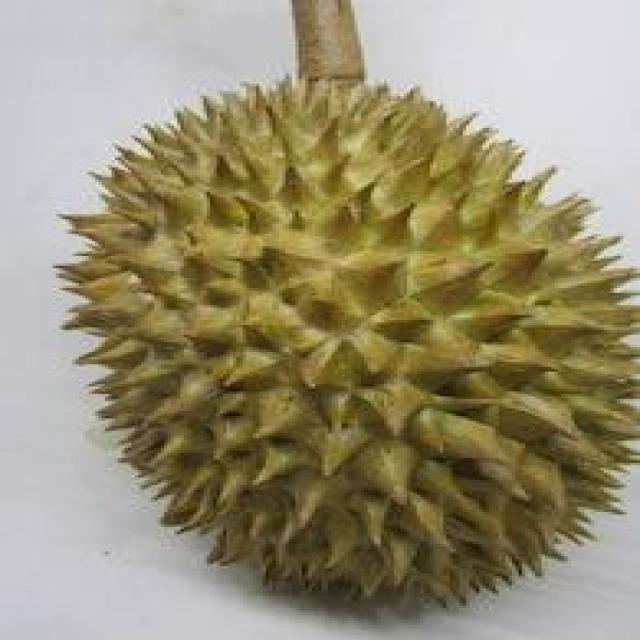immature: (55, 74, 640, 615)
